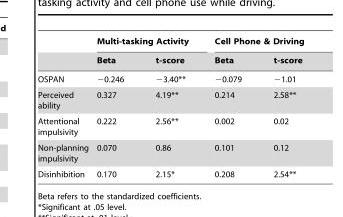table: (37, 36, 303, 178)
table column: (139, 36, 200, 178), (200, 36, 256, 178), (37, 36, 92, 178), (92, 36, 139, 178), (256, 36, 303, 178)
table column header: (37, 36, 303, 69)
table row: (37, 86, 303, 113), (37, 139, 303, 166), (37, 113, 303, 139), (37, 50, 303, 69), (37, 69, 303, 86), (37, 36, 303, 50), (37, 166, 303, 178)
table spanning cell: (92, 36, 200, 50), (200, 36, 303, 50)
